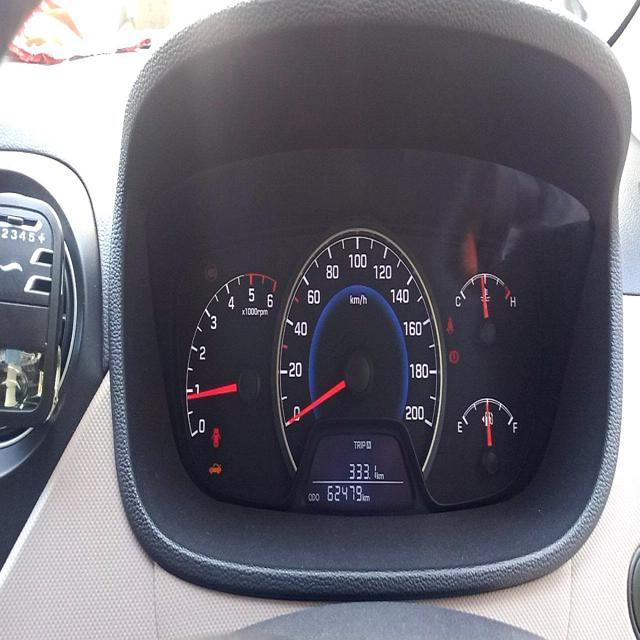odometer: (321, 480, 364, 507)
